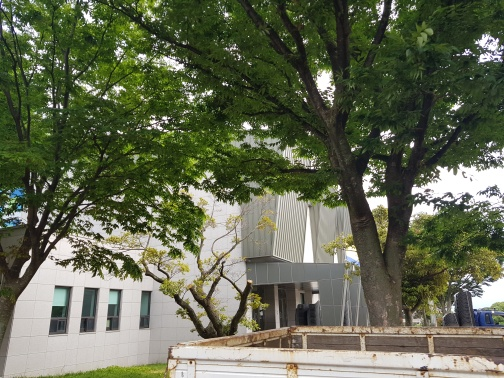Gym: (19, 150, 373, 327)
